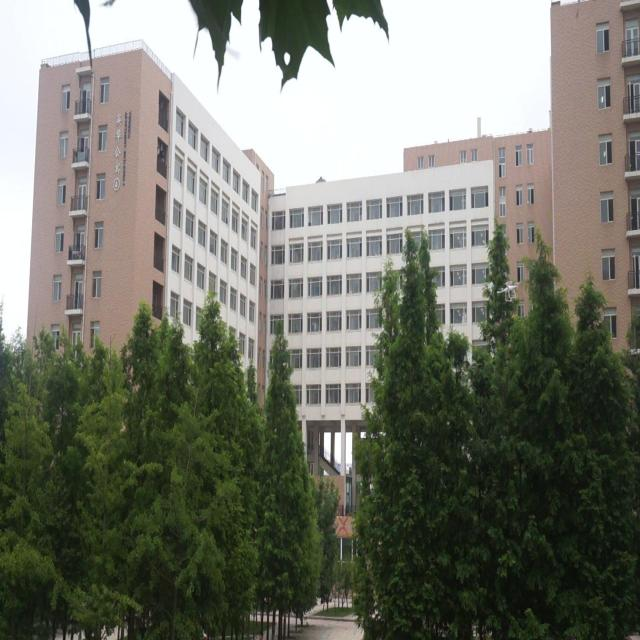UAV: (496, 282, 520, 302)
